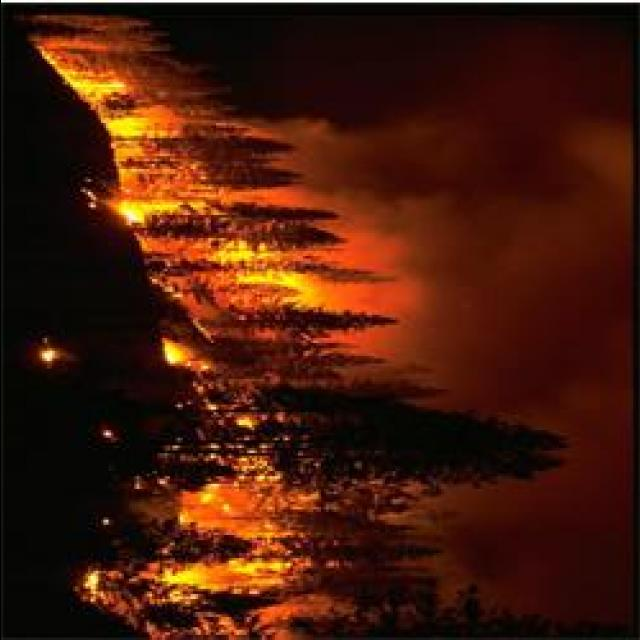fire: (163, 557, 293, 597), (69, 61, 127, 110), (112, 194, 190, 225), (108, 110, 168, 144)
smoke: (400, 105, 630, 340), (488, 272, 630, 418), (448, 490, 624, 607)
